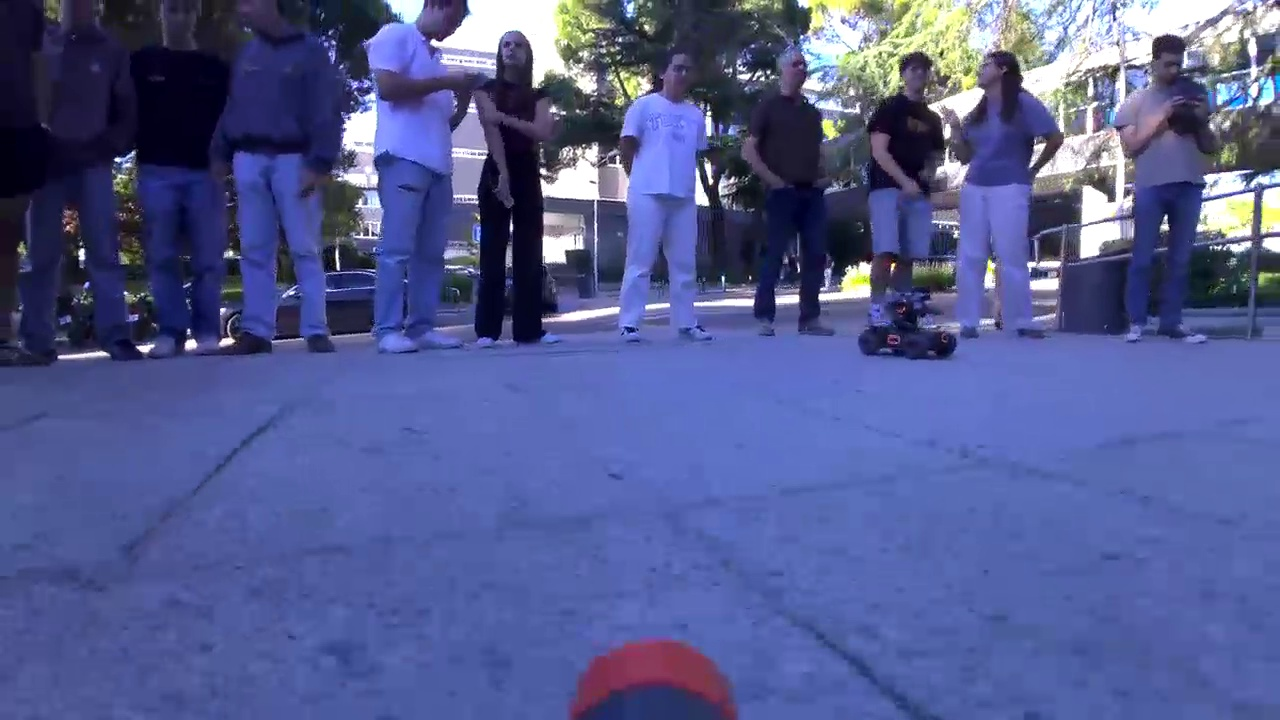robot: (863, 286, 955, 361)
